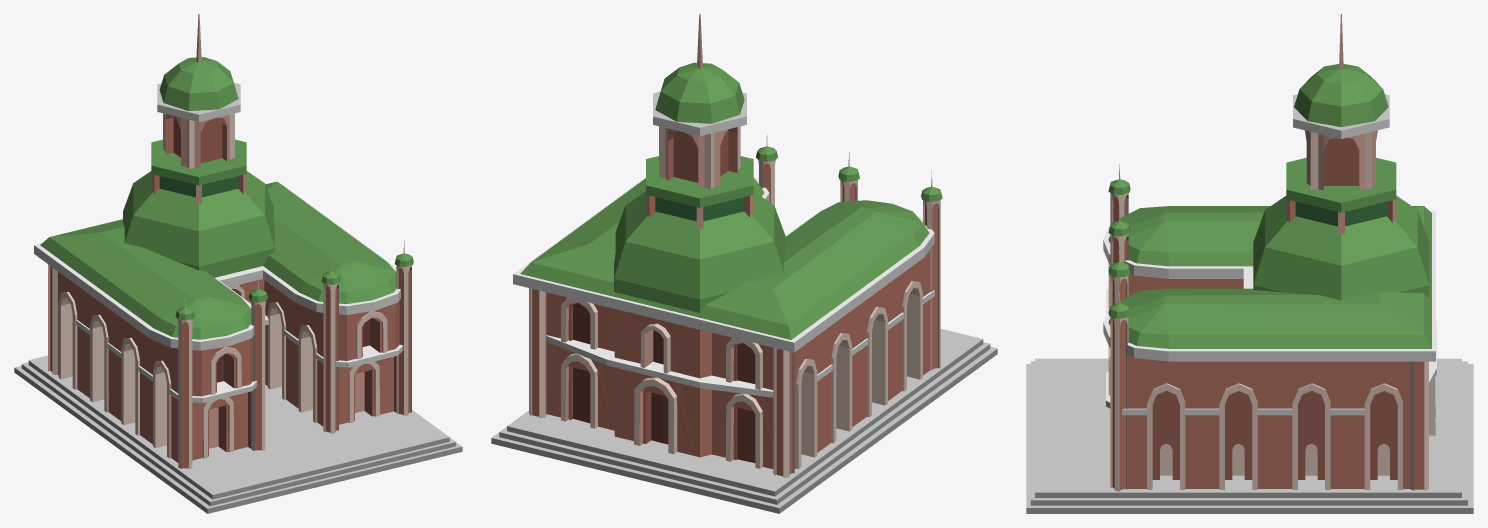
The model's file is temple_009.fbx.
3 views of the same model, side by side, from view 1: azimuth 30°, elevation 25°; view 2: azimuth 150°, elevation 25°; view 3: azimuth 270°, elevation 25° (orthographic). The views are drawn at different scales.
Parts seen in each view (by area): view 1: temple_009; view 2: temple_009; view 3: temple_009.
Boxes of the visible parts, x1,y1,x2,y2 form: temple_009: (14, 14, 462, 513); temple_009: (491, 14, 997, 513); temple_009: (1026, 14, 1473, 513).
Size of the model in its own units: 1572 by 2176 by 2063.
